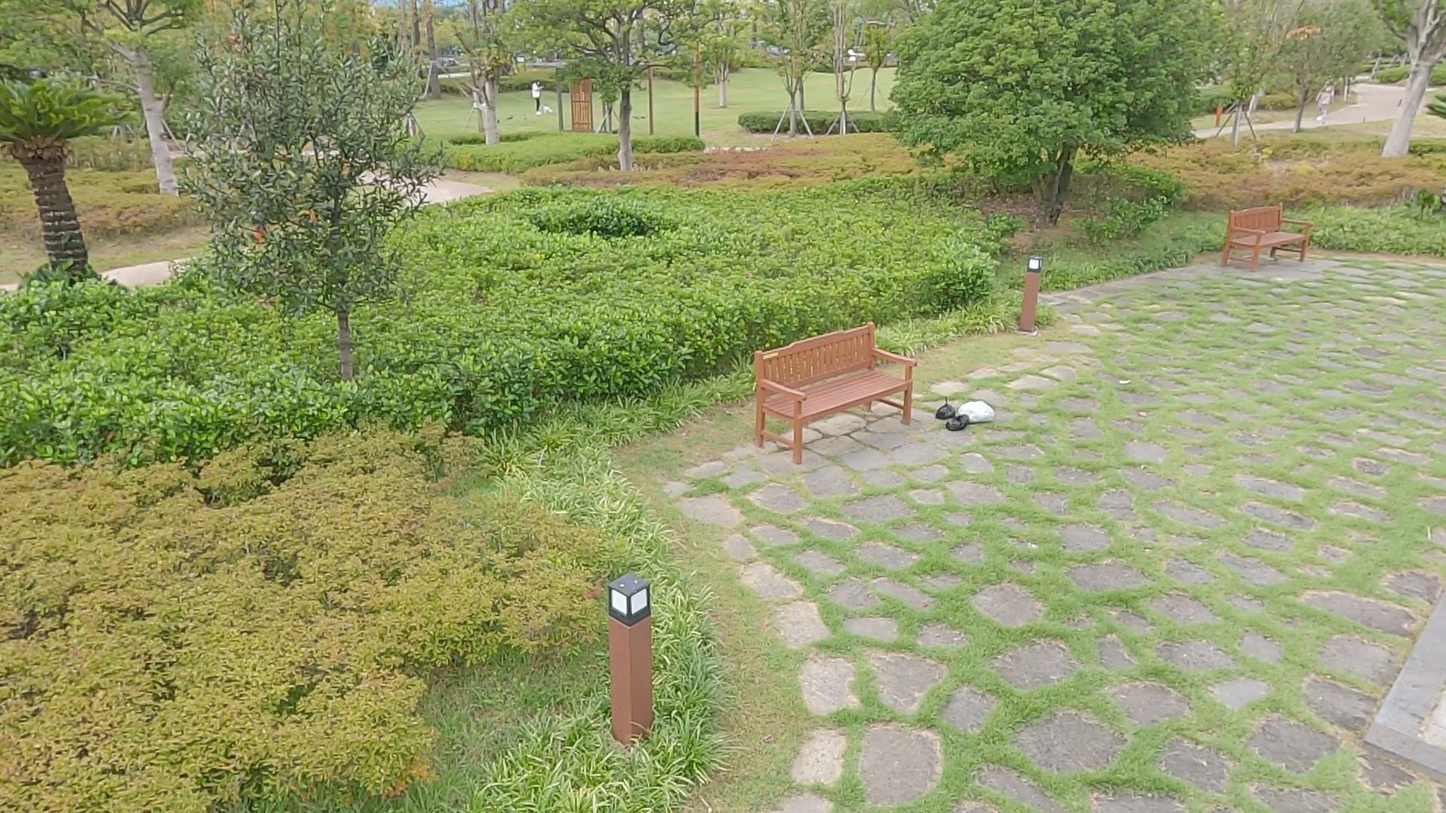person: (531, 80, 544, 116)
trash: (957, 400, 996, 423), (935, 397, 957, 420), (946, 415, 970, 431)
